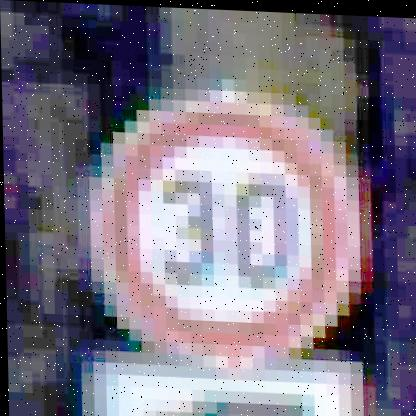Speed Limit -30-: (85, 82, 368, 364)
